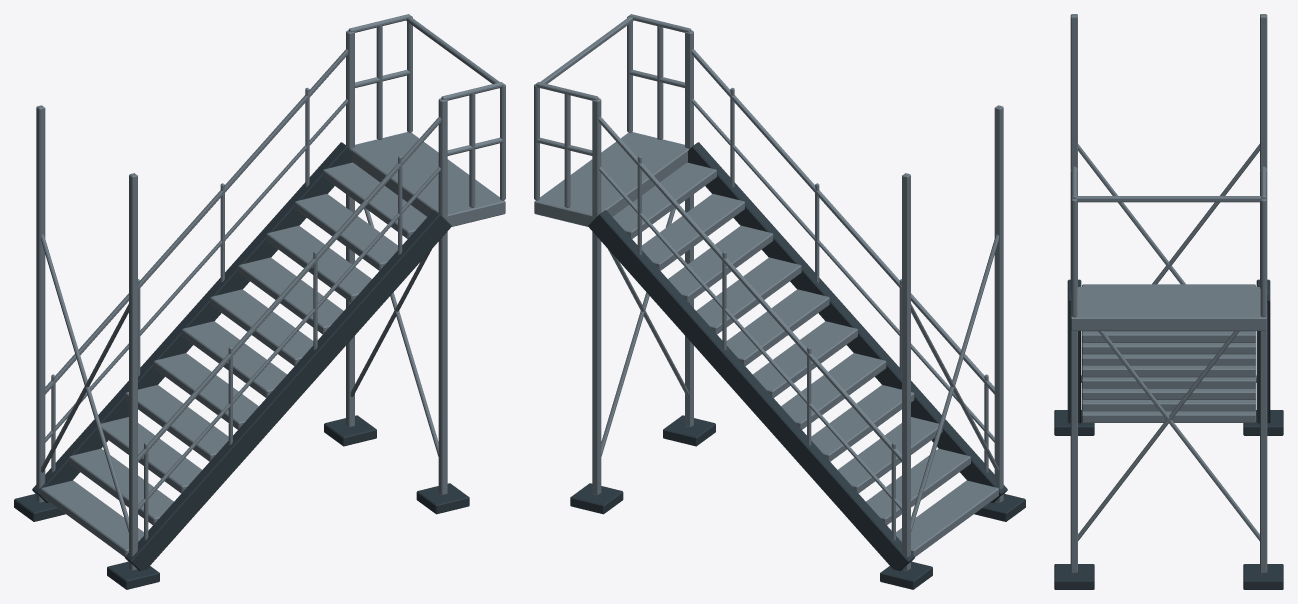
File: b07_scaffold_access_stair_tower.glb
3 views of the same model, side by side, from view 1: azimuth 30°, elevation 25°; view 2: azimuth 150°, elevation 25°; view 3: azimuth 270°, elevation 25° (orthographic).
Visible parts, largest first — view 1: b07_scaffold_access_stair_tower; view 2: b07_scaffold_access_stair_tower; view 3: b07_scaffold_access_stair_tower.
Boxes of the visible parts, left/top/right/bottom form: b07_scaffold_access_stair_tower: left=14, top=14, right=505, bottom=589; b07_scaffold_access_stair_tower: left=534, top=14, right=1025, bottom=589; b07_scaffold_access_stair_tower: left=1054, top=14, right=1283, bottom=589.
Bounding box in the file's own units: 3.39 × 3.39 × 1.7.
